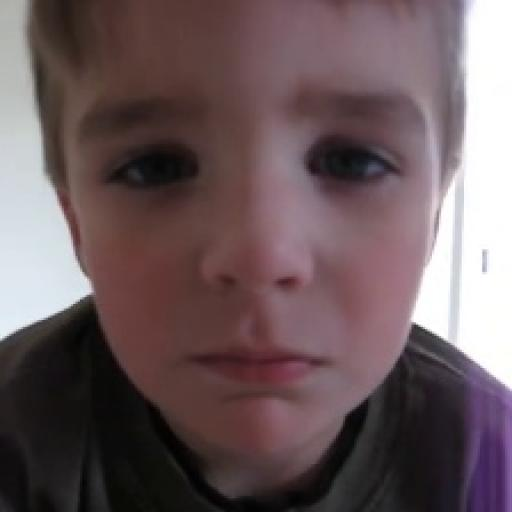Autism: (94, 35, 357, 437)
